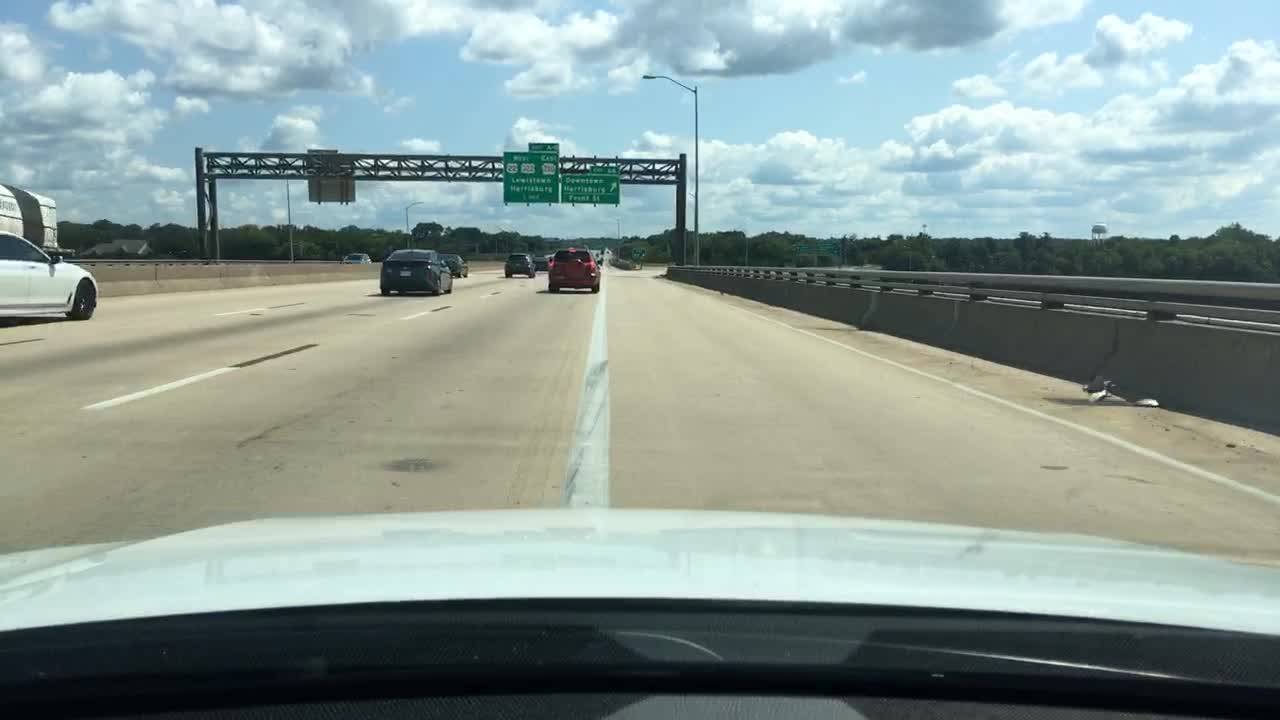car: (0, 229, 99, 320), (377, 247, 454, 296), (548, 245, 601, 292), (503, 251, 537, 277), (436, 252, 470, 277), (342, 249, 373, 265), (534, 252, 554, 274), (594, 252, 603, 264)
traffic sign: (501, 149, 558, 205), (308, 146, 357, 201), (561, 171, 620, 204), (791, 241, 841, 256), (526, 141, 558, 149), (588, 164, 618, 172)
truck: (0, 184, 75, 259)
